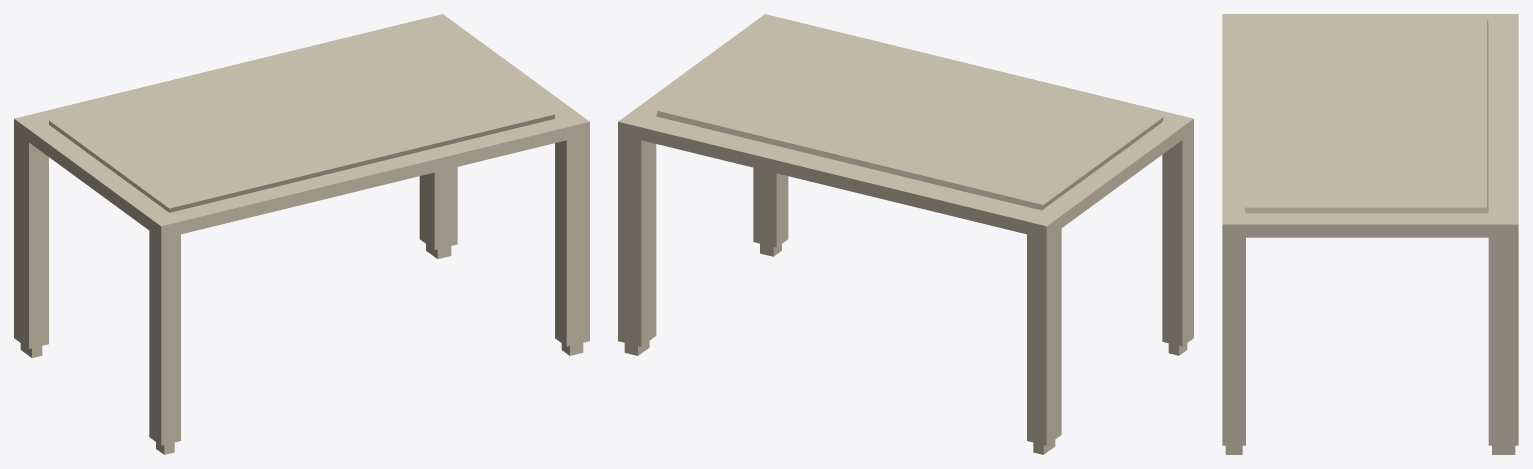
Rendered from patterntable.gltf.
3 renders of one model, left to right at view 1: azimuth 30°, elevation 25°; view 2: azimuth 150°, elevation 25°; view 3: azimuth 270°, elevation 25°, orthographic.
Visible parts, largest first — view 1: Cube; view 2: Cube; view 3: Cube.
Part boxes in pixels (left/top/right/bottom): Cube: left=14, top=14, right=589, bottom=454; Cube: left=618, top=14, right=1193, bottom=454; Cube: left=1222, top=14, right=1518, bottom=454.
Size of the model in its own units: 6.09 by 3.2 by 3.62.
